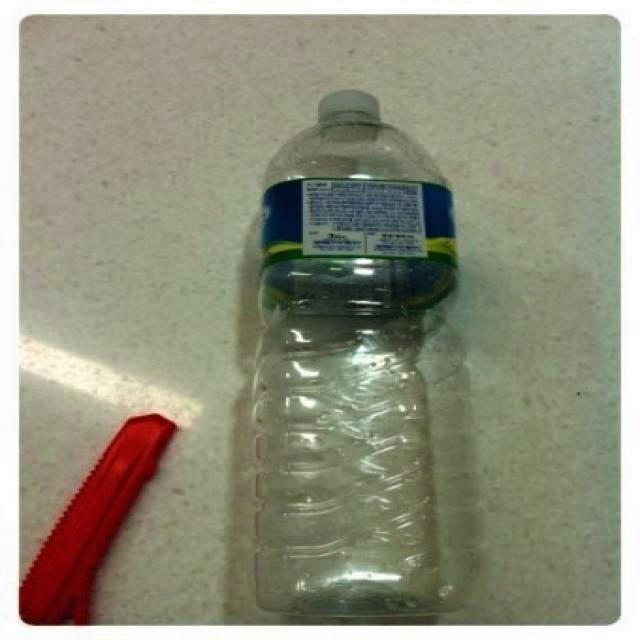bottle: (251, 90, 467, 618)
